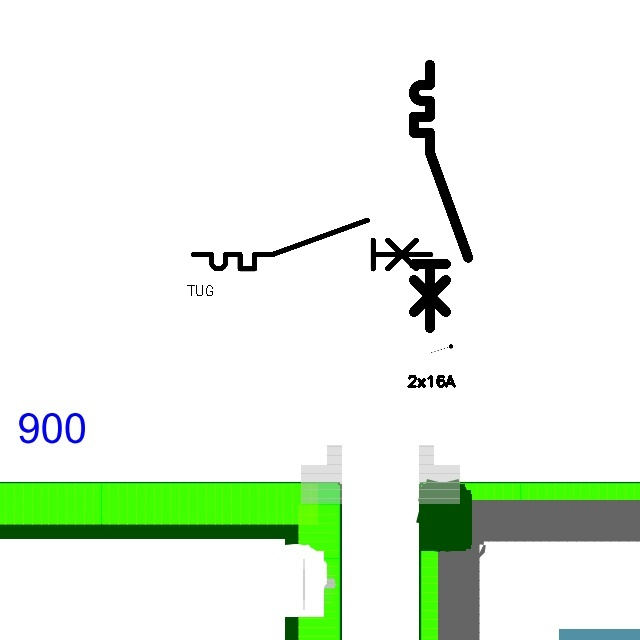interruptor_termomagnetico: (407, 58, 474, 335), (187, 214, 436, 275)
